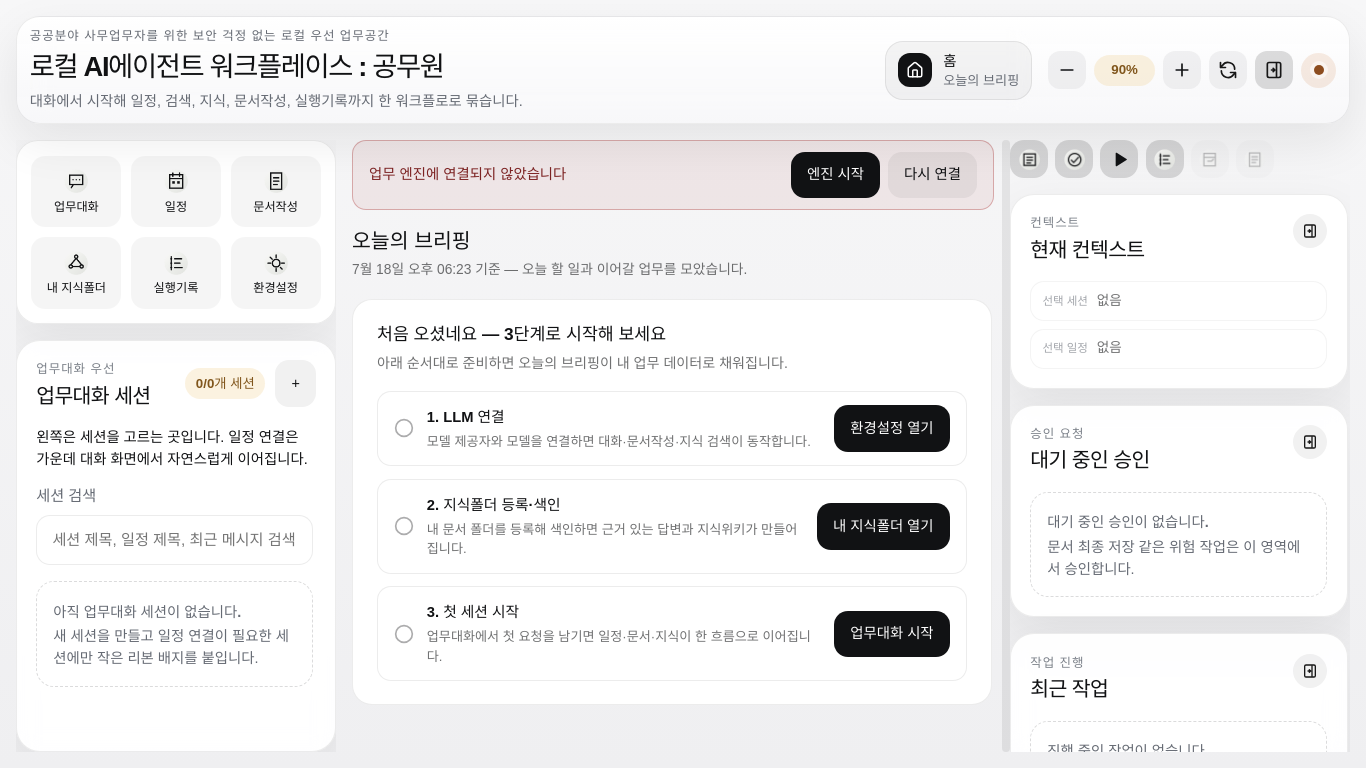
Test: Context pane auto open policy (C-09) › does not force-open the collapsed pane for non-approval reveals (C-09)
This screenshot has width=1366, height=768.
Note: D-06: 시작 화면이 홈이므로 업무대화로 이동한 뒤 세션 생성 흐름을 검증한다.
Click the button "업무대화": (76, 192) [31, 156, 121, 227]
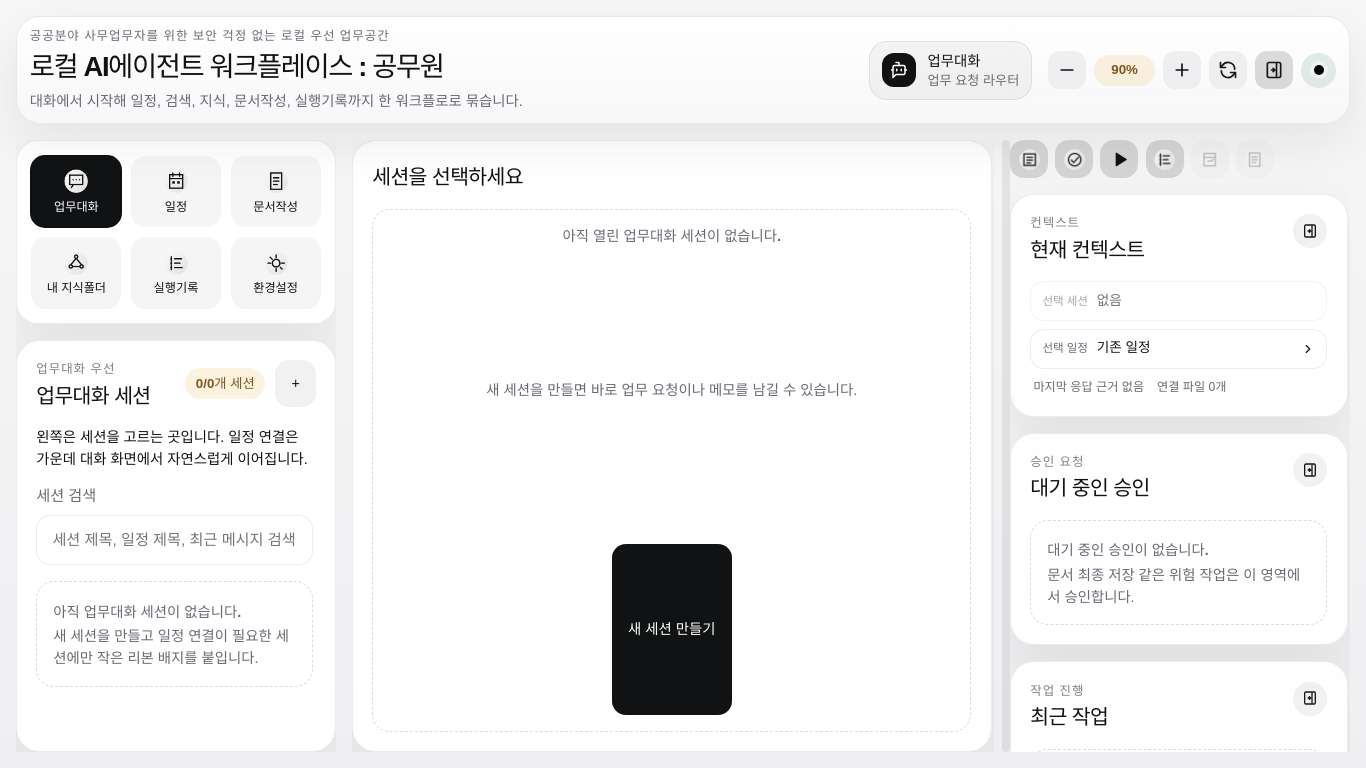
Click the button named "오른쪽 정보 패널 닫기": (1274, 70) [1255, 51, 1293, 89]
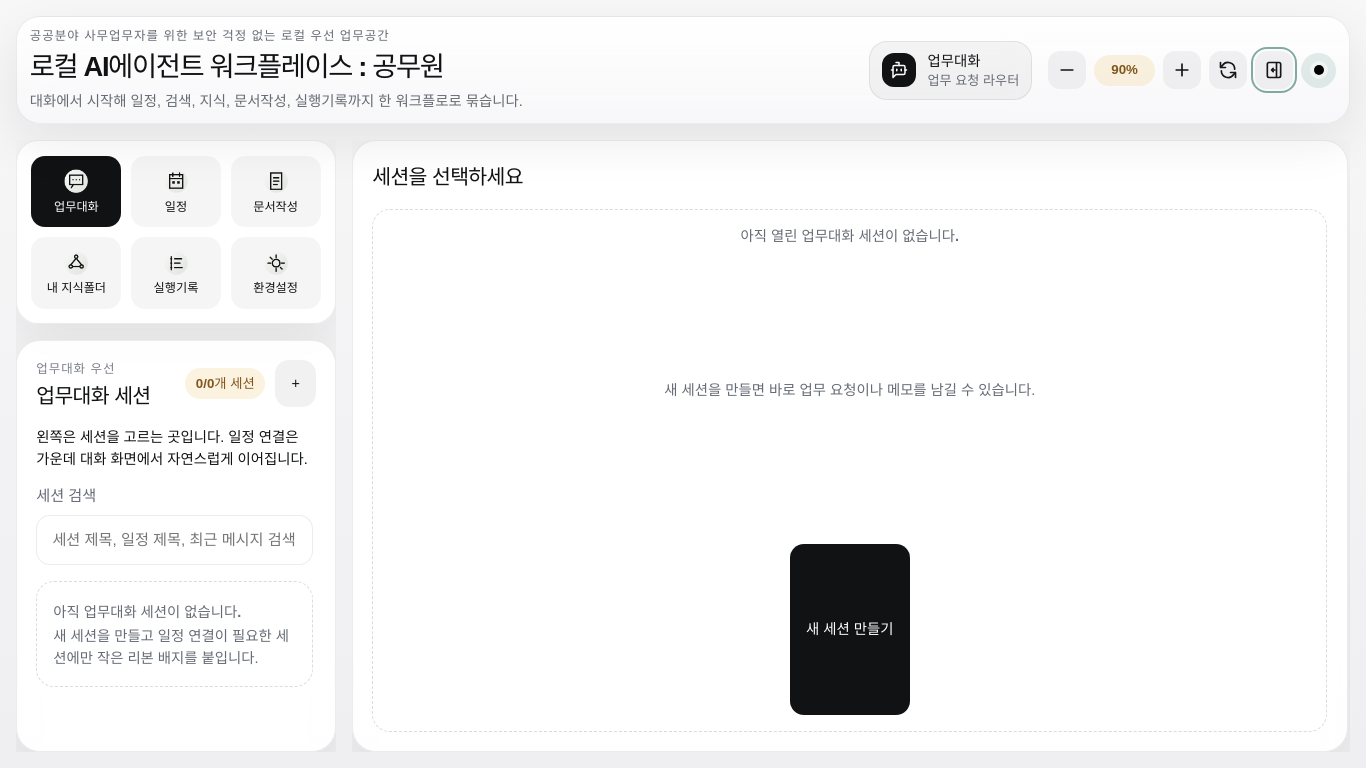
expect the button named "오른쪽 정보 패널 열기" is shown: met, box [1255, 51, 1293, 89]
Click the button named "새 세션": (296, 384) [275, 360, 316, 407]
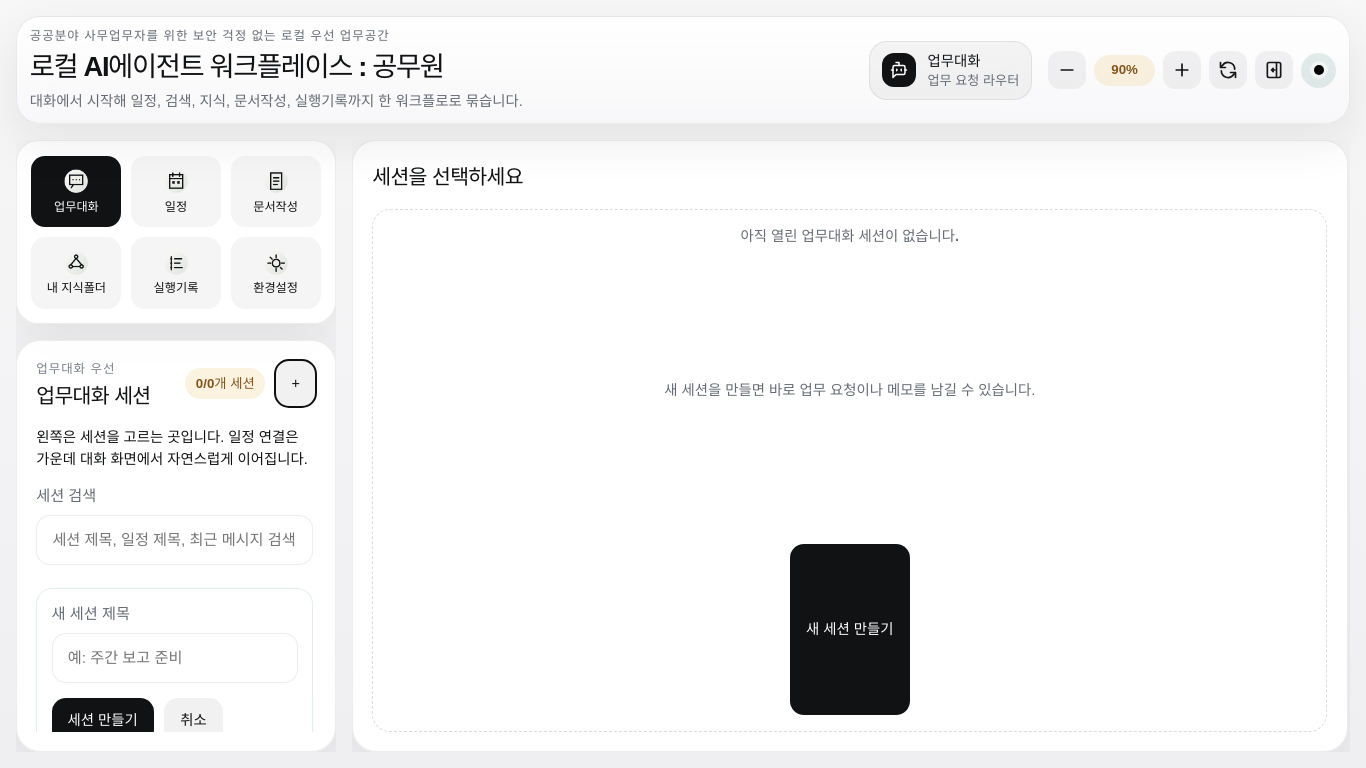
In the field labelled "새 세션 제목": (175, 658) [52, 633, 298, 684], type "주간 보고 준비"
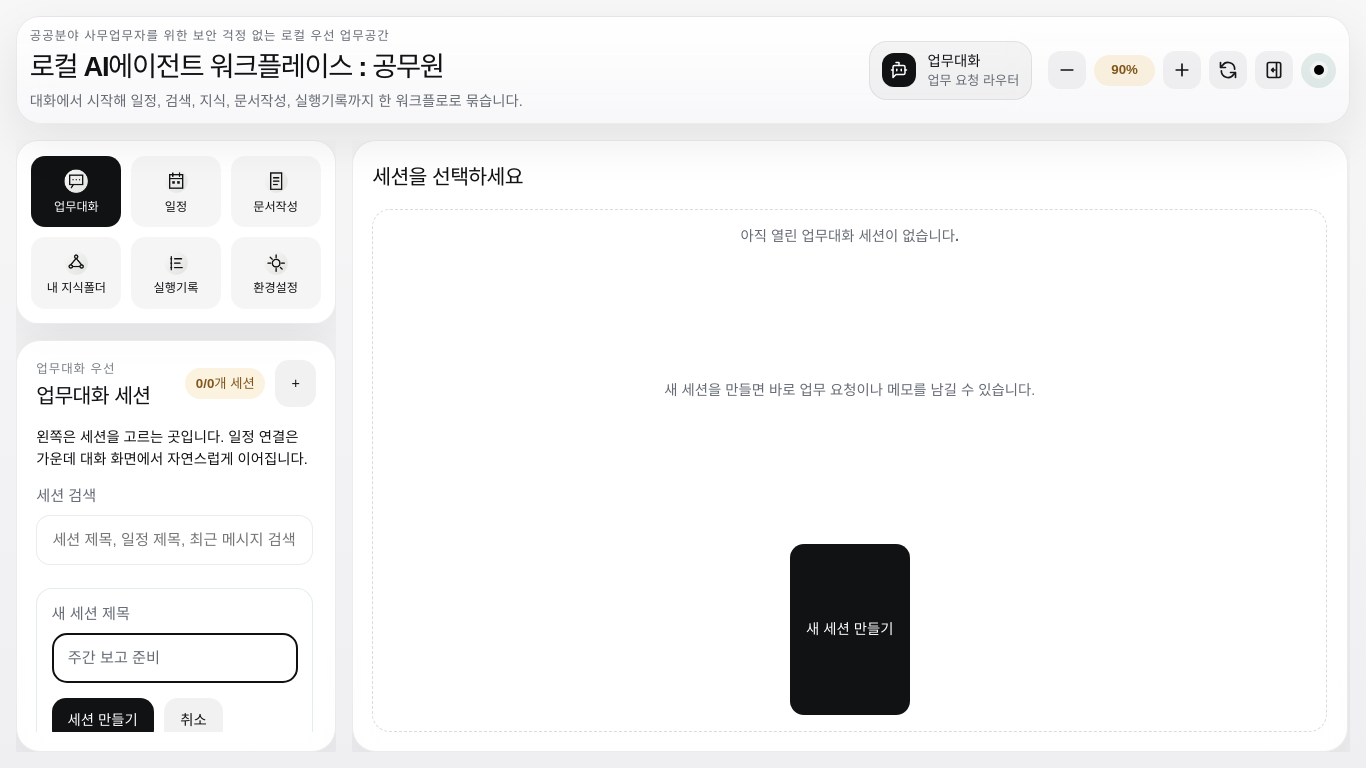
Click the button "세션 만들기": (103, 721) [52, 698, 154, 744]
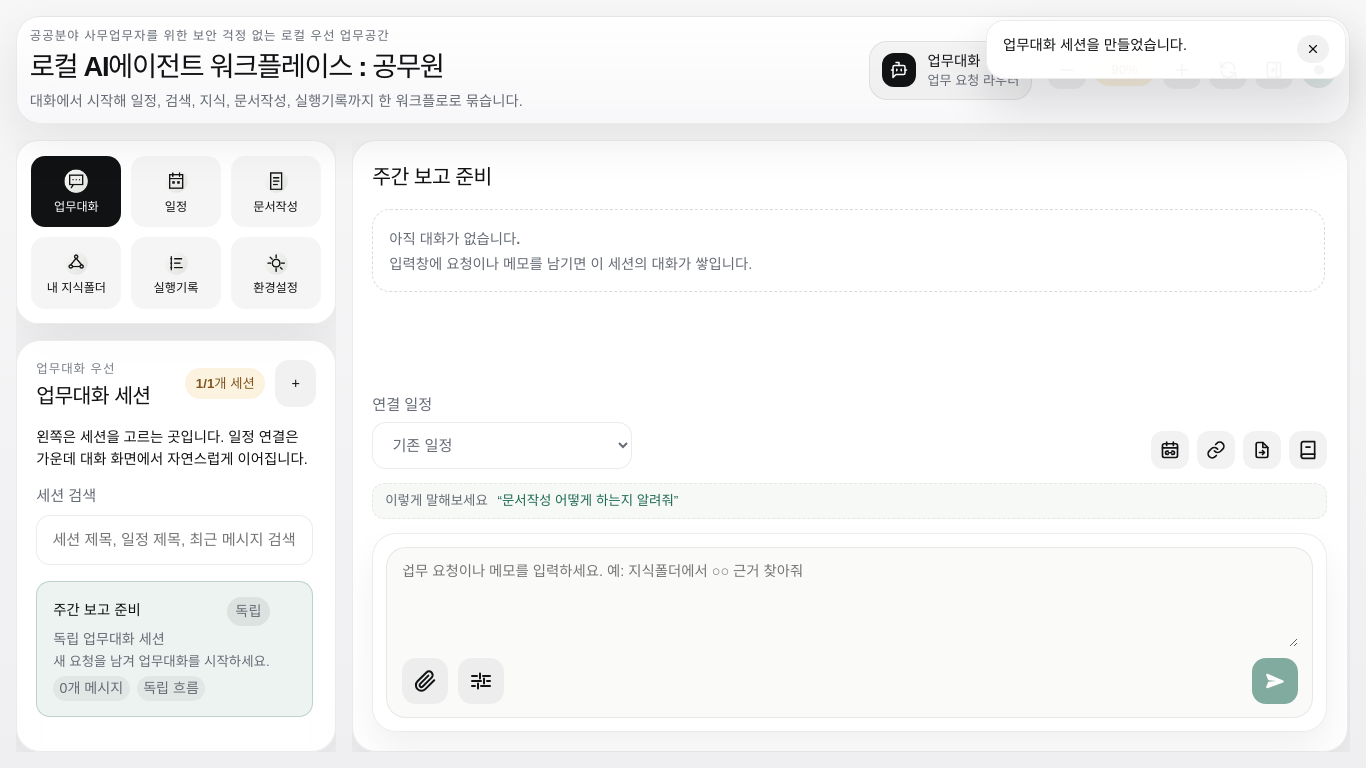
expect the button named "오른쪽 정보 패널 열기" is shown: met, box [1255, 51, 1293, 89]
expect the heading "주간 보고 준비" is shown: met, box [372, 162, 492, 193]
